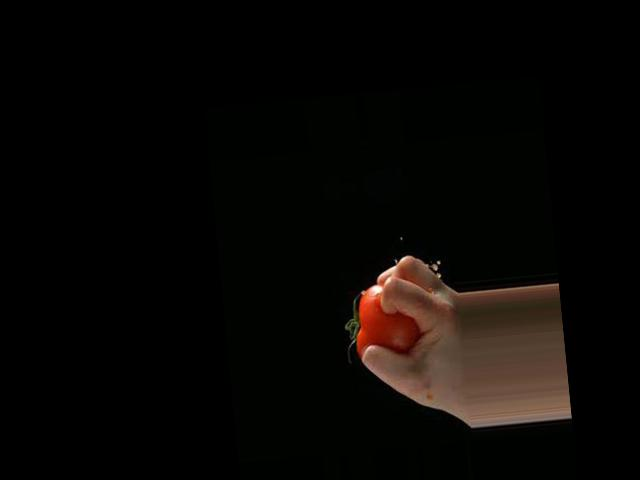tomato: (351, 281, 421, 360)
